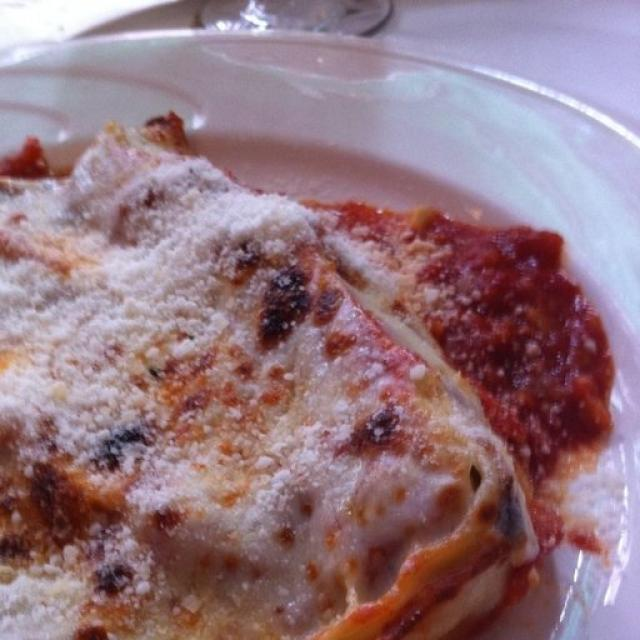Lasagna: (26, 151, 548, 609)
